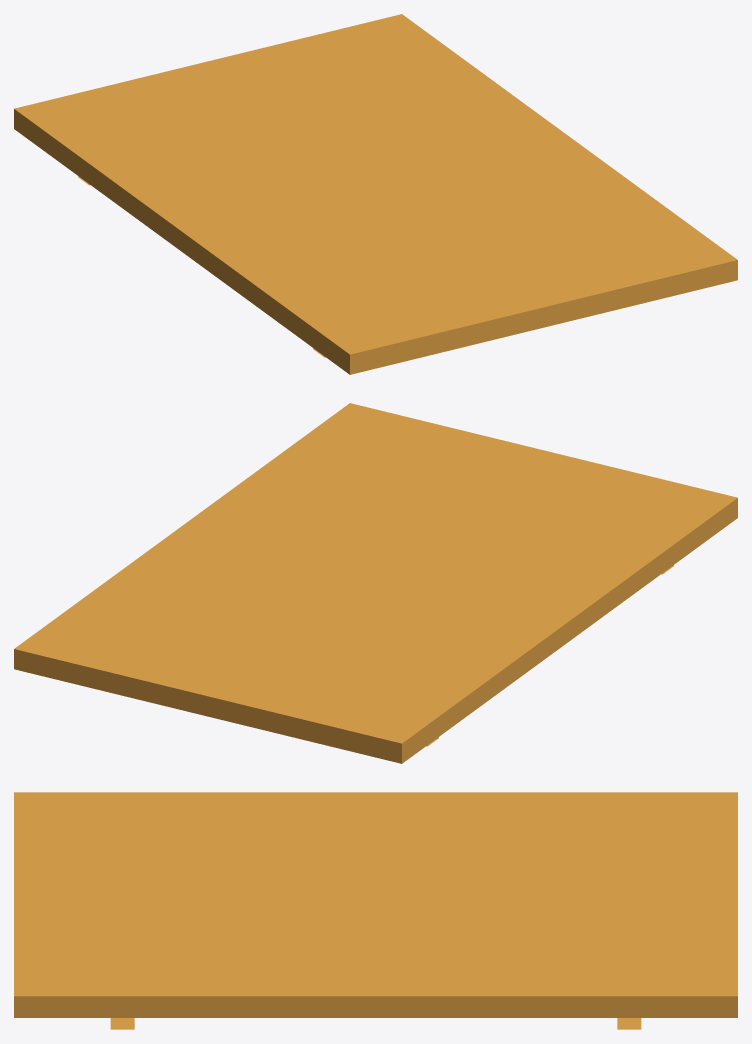
File: props-solar-panel-house.glb
3 renders of one model, top to bottom at view 1: azimuth 30°, elevation 25°; view 2: azimuth 150°, elevation 25°; view 3: azimuth 270°, elevation 25°, orthographic. The views are drawn at different scales.
Parts seen in each view (by area): view 1: solar-panel-house; view 2: solar-panel-house; view 3: solar-panel-house.
Boxes of the visible parts, bbox=[...] form: solar-panel-house: bbox=[14, 14, 737, 374]; solar-panel-house: bbox=[14, 403, 737, 763]; solar-panel-house: bbox=[14, 792, 737, 1029].
Bounding box in the file's own units: 1 × 0.1 × 1.5.
